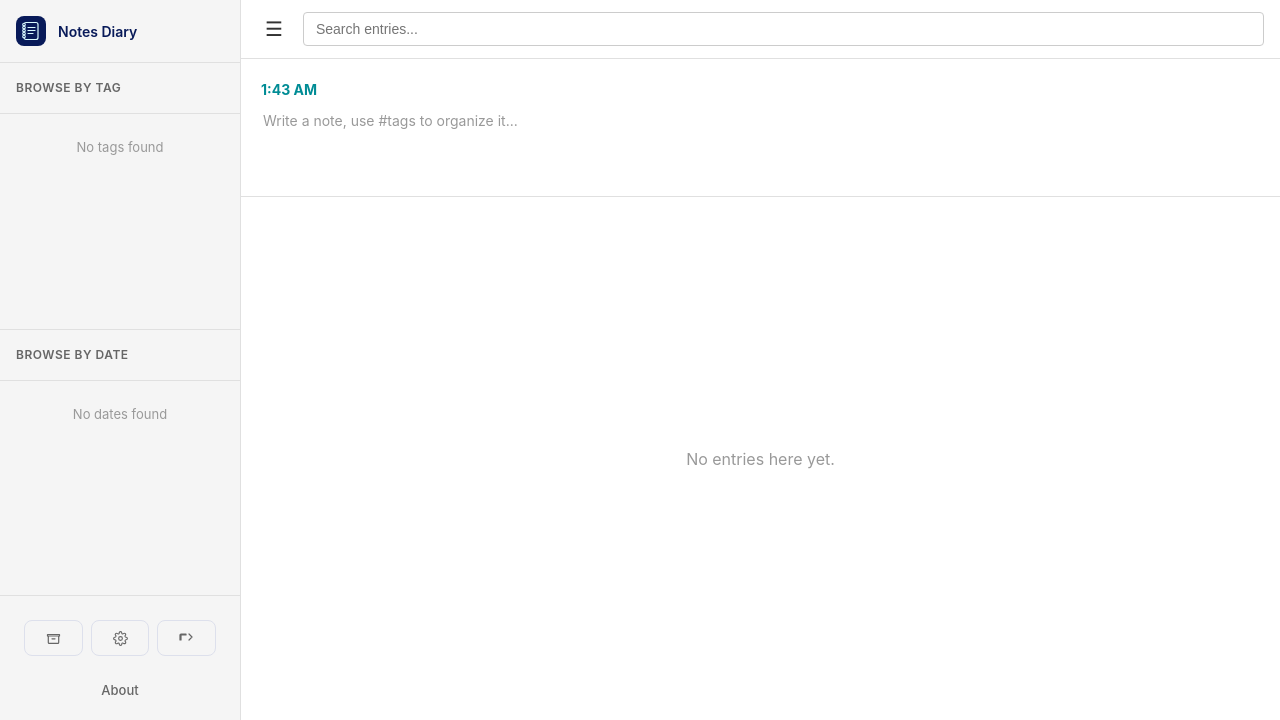
Test: App view switching › returns to diary view when back is clicked from Archive view
The width and height of the screenshot is (1280, 720).
Click the button named "Archived": (53, 638) [24,620,83,656]
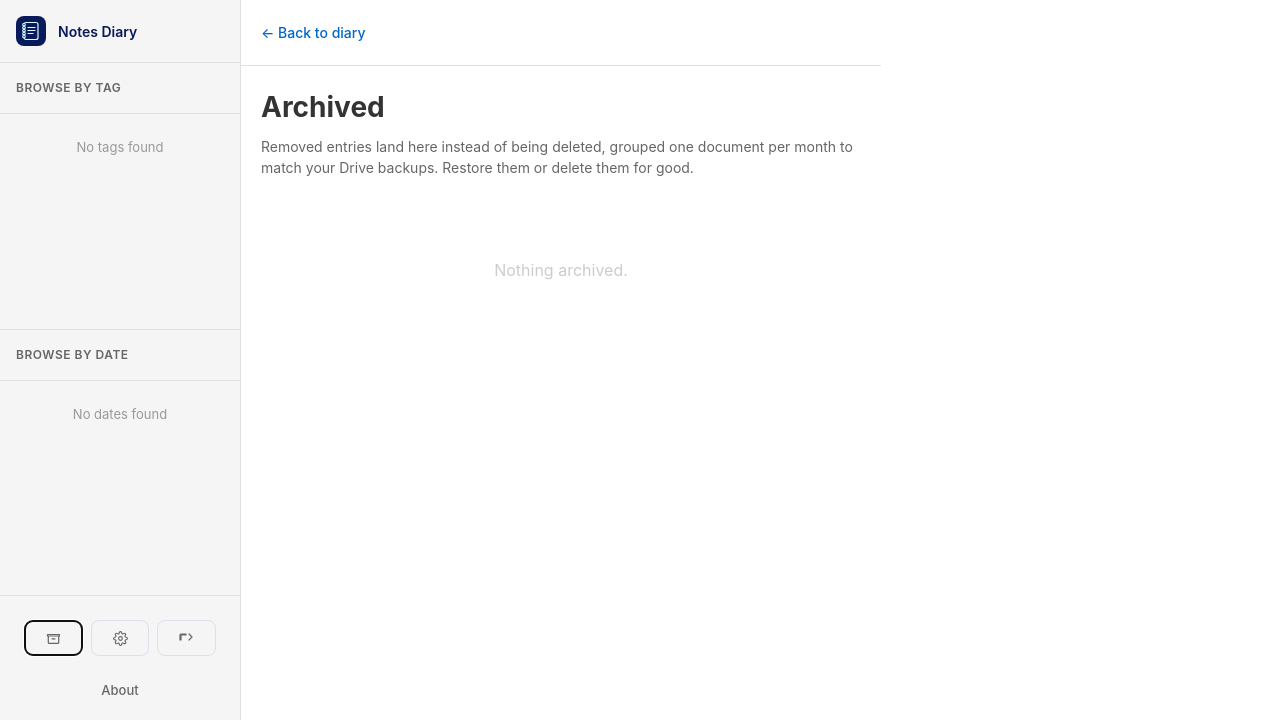
Expected: the text "Nothing archived." is shown, [494,260,628,280]
Click the button "← Back to diary": (313, 32) [261,16,366,49]
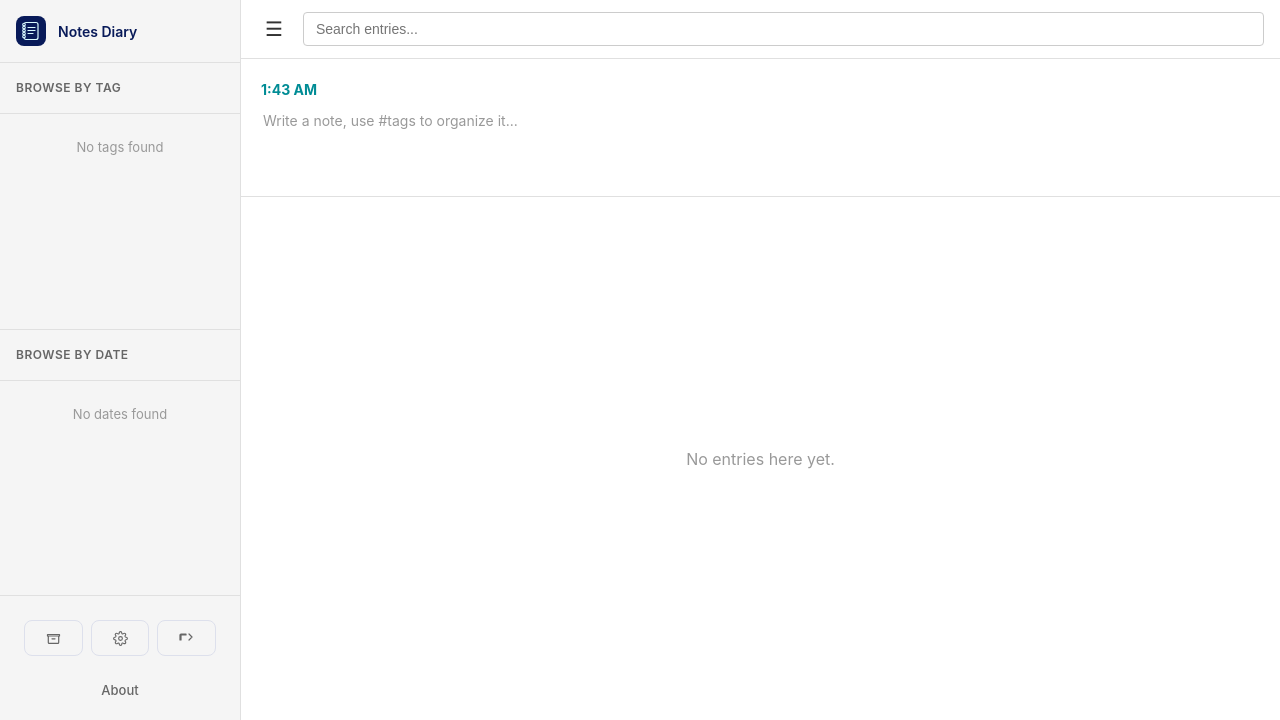
Expected: the text "Nothing archived." is gone
